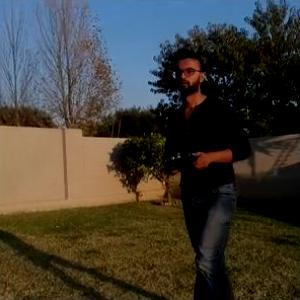follow: (160, 30, 264, 299)
